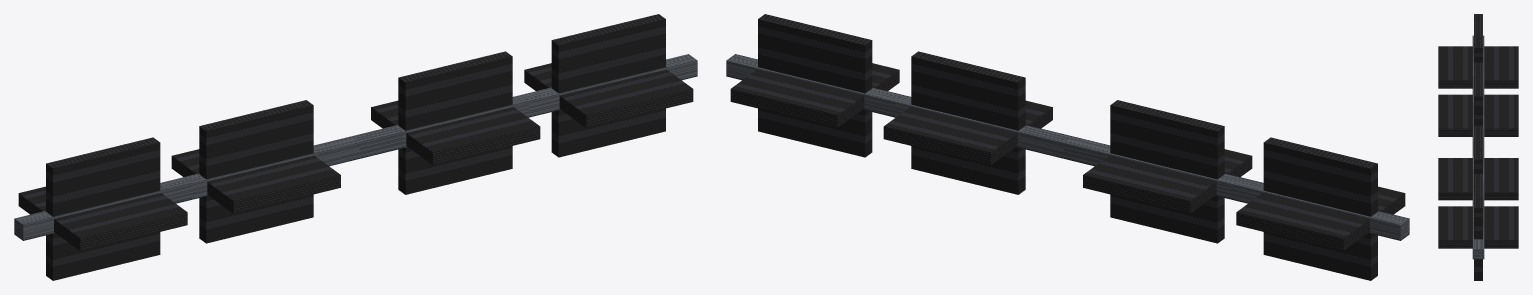
File: flotation_paddles.obj
3 renders of one model, left to right at view 1: azimuth 30°, elevation 25°; view 2: azimuth 150°, elevation 25°; view 3: azimuth 270°, elevation 25°, orthographic. The views are drawn at different scales.
Visible parts, largest first — view 1: blade, pad_shaft; view 2: blade, pad_shaft; view 3: blade, pad_shaft.
Boxes of the visible parts, <box> form: blade: <box>18,14,693,280</box>; pad_shaft: <box>14,54,697,240</box>; blade: <box>730,14,1405,280</box>; pad_shaft: <box>726,54,1409,240</box>; blade: <box>1438,14,1518,280</box>; pad_shaft: <box>1472,35,1484,259</box>.
Size of the model in its own units: 2.75 by 0.4375 by 0.4375.
